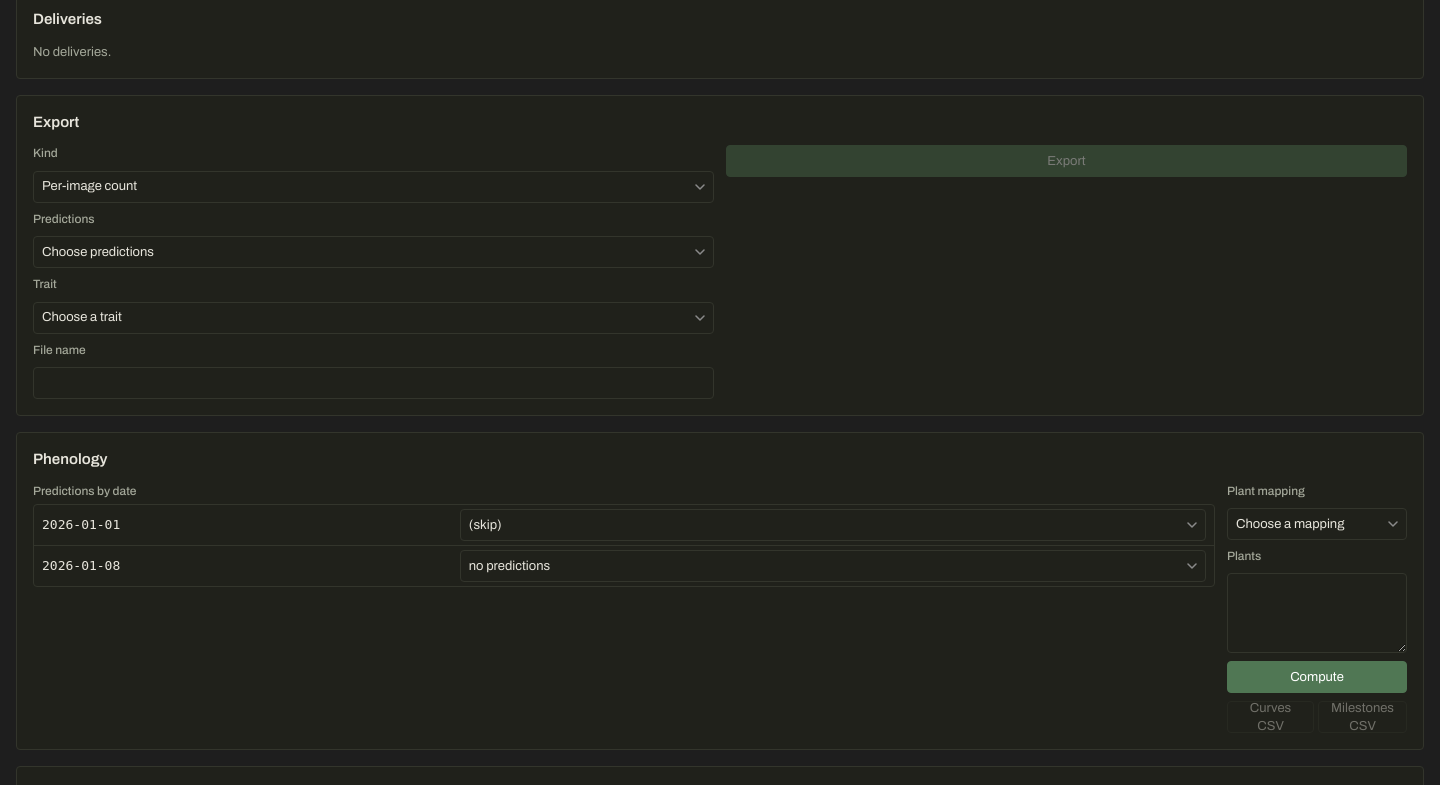
Scenario: ResultsTab evidence gate › clears the rows when a compute fails
Expected: the text "2026-01-01" is shown, 34,505 -> 460,546
Select "baseline/2026-01-01" in the dropdown titled "The bucket whose predictions to use for this date" at x=833, y=525, box 460,509 -> 1206,541
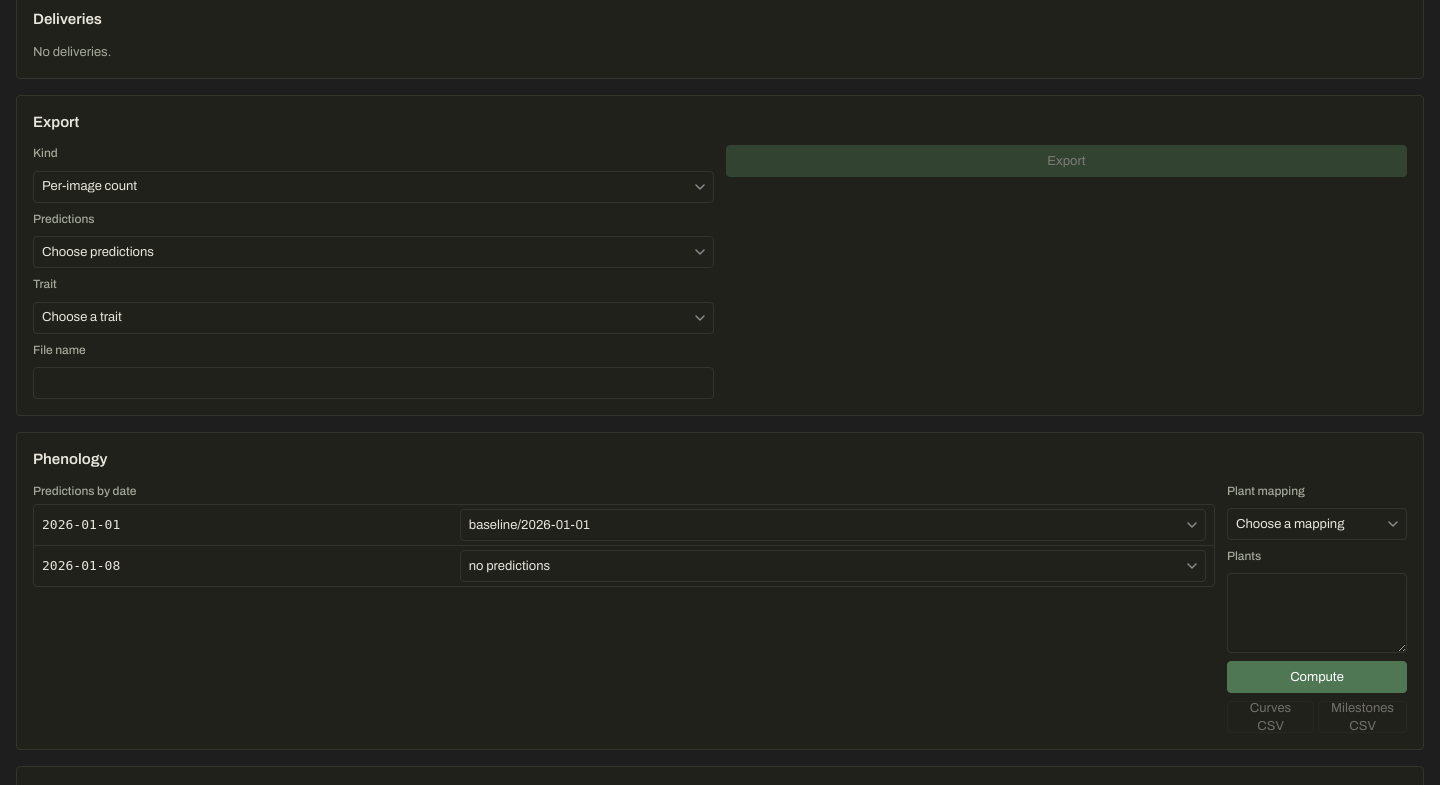
Type "P1" into the text box labelled "Plants" at x=1317, y=613, box 1227,573 -> 1407,653
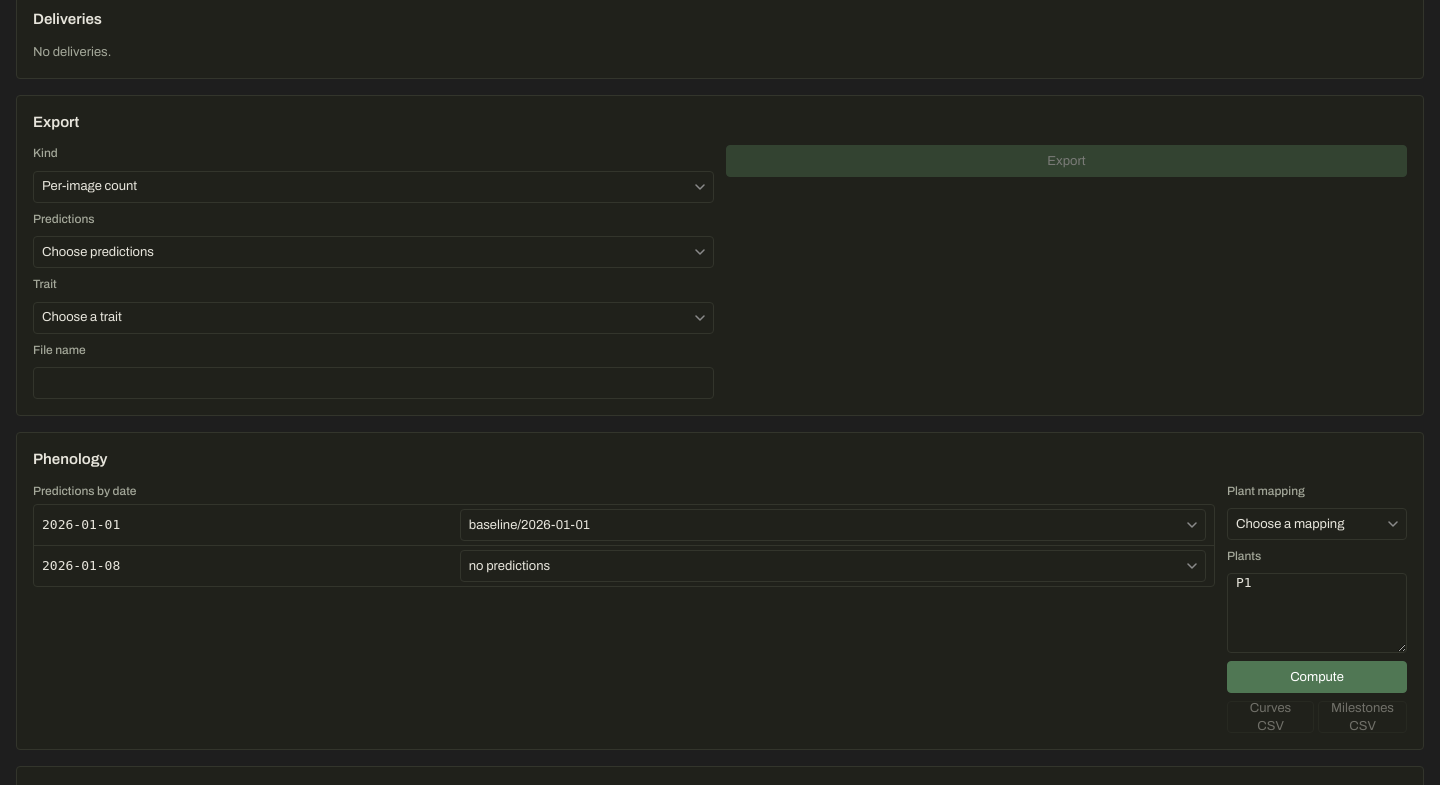
Click the button "Compute" at x=1317, y=677, box 1227,661 -> 1407,693
(page scrolled)
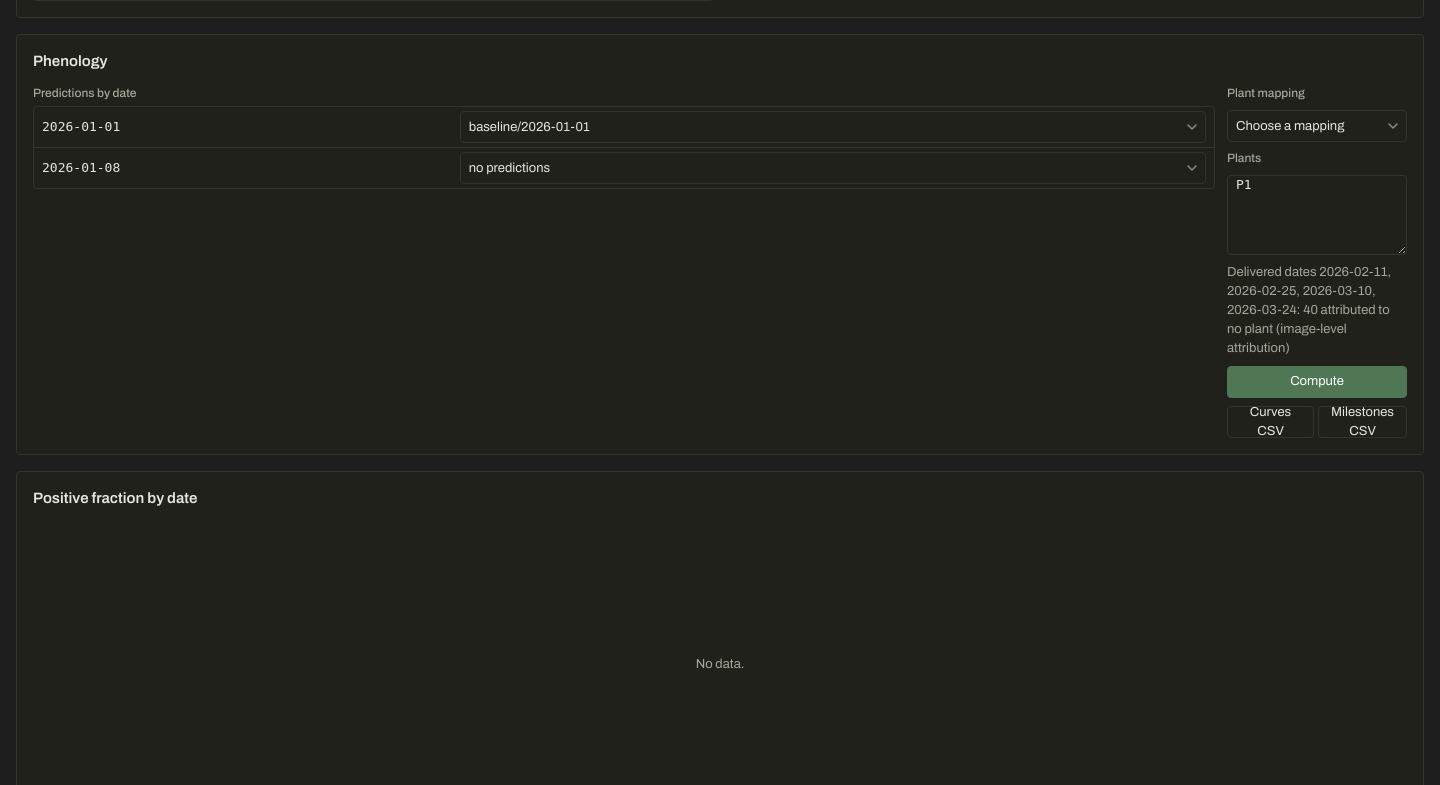
Click the button "Compute" at x=1317, y=382, box 1227,366 -> 1407,398
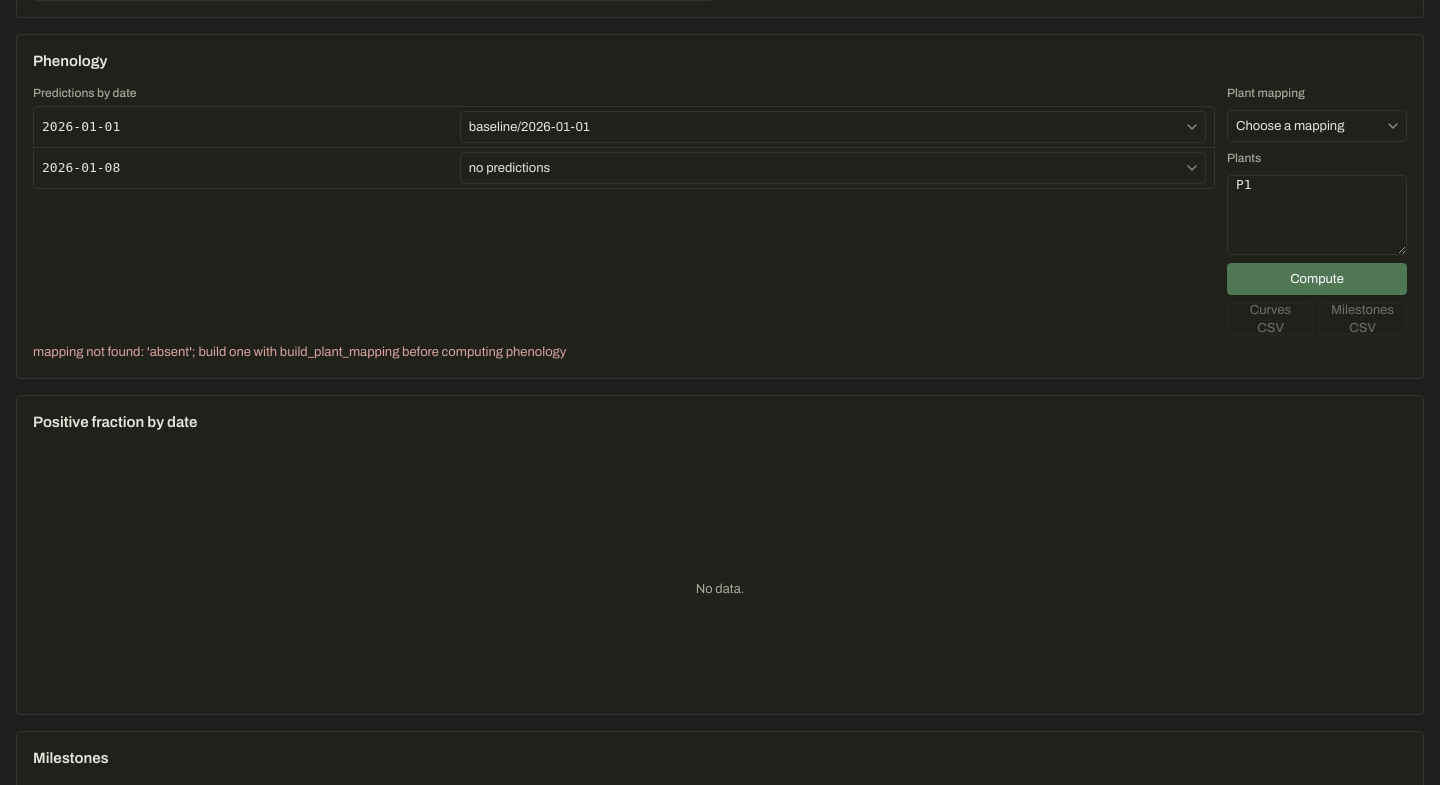
Now the text "mapping not found: 'absent'; build one with build_plant_mapping before computing phenology" is shown, box 33,345 -> 566,359
